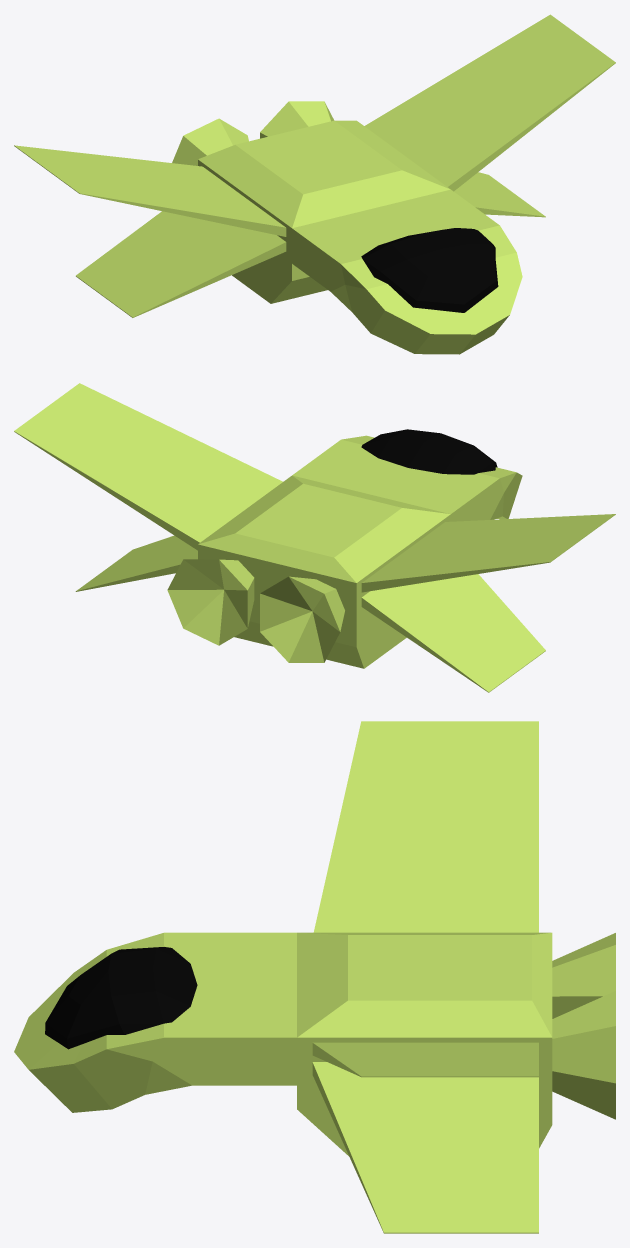
The model's file is shippy.fbx.
3 views of the same model, one above another, from view 1: azimuth 30°, elevation 25°; view 2: azimuth 150°, elevation 25°; view 3: azimuth 270°, elevation 25° (orthographic). The views are drawn at different scales.
Visible parts, largest first — view 1: pCube5, pCube1, pCylinder5, pCube10, pCube7, polySurface1, pCube8, pCylinder4, pCylinder3; view 2: pCube1, pCube5, pCube10, pCube7, pCylinder5, pCylinder4, pCylinder3, polySurface1, pCube8; view 3: pCube7, pCube1, pCube8, pCylinder5, polySurface1, pCube5, pCylinder3, pCylinder4.
Part boxes in pixels (x1,y1,x2,y2): pCube5: [364, 14, 615, 191]; pCube1: [198, 120, 450, 303]; pCylinder5: [292, 189, 522, 354]; pCube10: [76, 211, 286, 317]; pCube7: [14, 145, 286, 236]; polySurface1: [361, 228, 498, 312]; pCube8: [454, 172, 545, 217]; pCylinder4: [172, 118, 248, 165]; pCylinder3: [260, 101, 334, 138]; pCube1: [198, 475, 450, 668]; pCube5: [14, 383, 282, 550]; pCube10: [361, 574, 545, 692]; pCube7: [361, 514, 615, 592]; pCylinder5: [292, 435, 522, 521]; pCylinder4: [260, 576, 344, 662]; pCylinder3: [167, 559, 254, 645]; polySurface1: [361, 429, 497, 474]; pCube8: [75, 535, 197, 591]; pCube7: [313, 721, 538, 932]; pCube1: [297, 932, 552, 1155]; pCube8: [312, 1062, 538, 1233]; pCylinder5: [14, 932, 296, 1112]; polySurface1: [45, 947, 197, 1049]; pCube5: [312, 1042, 538, 1077]; pCylinder3: [552, 991, 615, 1119]; pCylinder4: [552, 933, 615, 1018].
Size of the model in its own units: 305 by 84.07 by 218.
